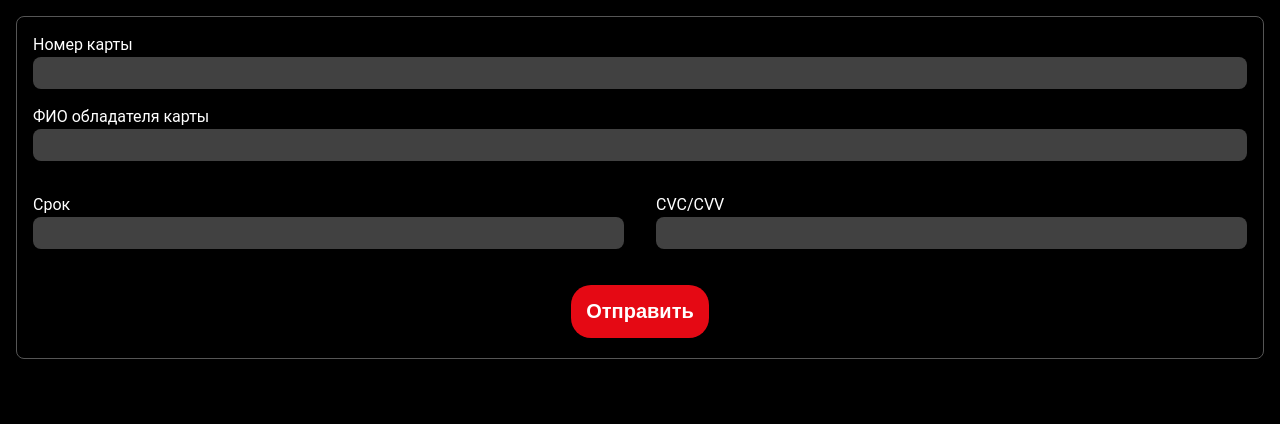
Test: BankCardForm › submits form successfully
The width and height of the screenshot is (1280, 424).
Type "1234567812345678" into the field labelled "Номер карты" at (640, 73), box [33,57,1247,89]
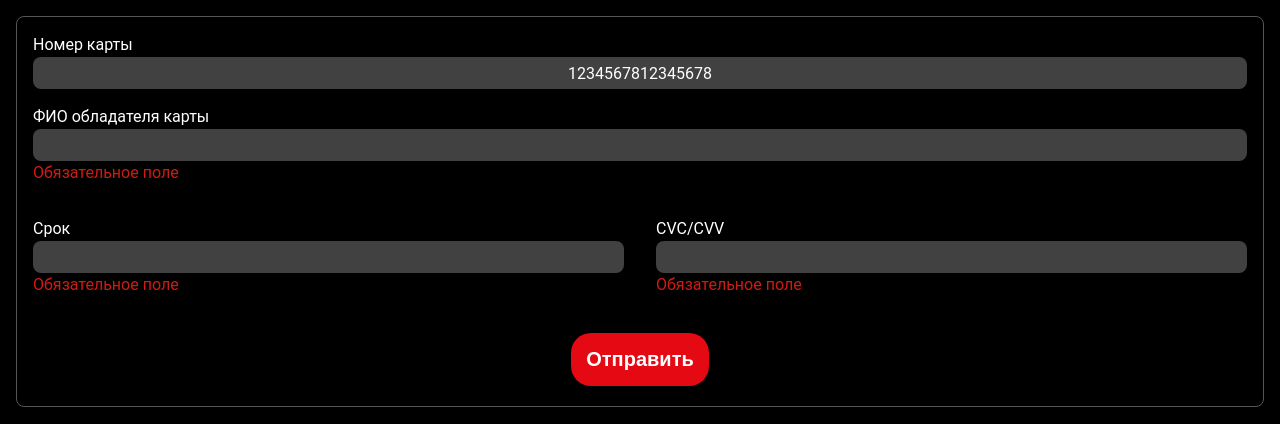
Type "Иванов Иван" into the field labelled "ФИО обладателя карты" at (640, 145), box [33,129,1247,161]
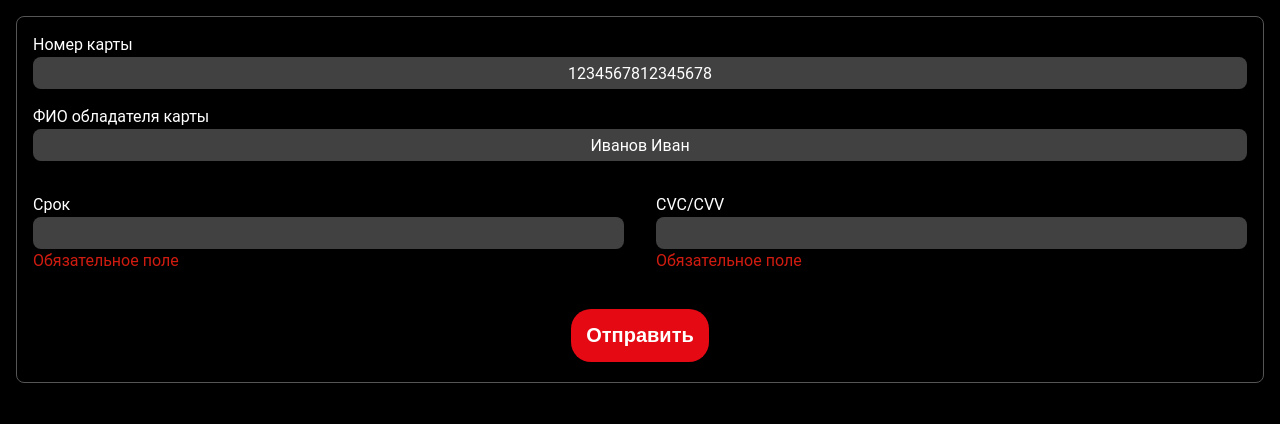
Type "12/12" into the field labelled "Срок" at (328, 233), box [33,217,624,249]
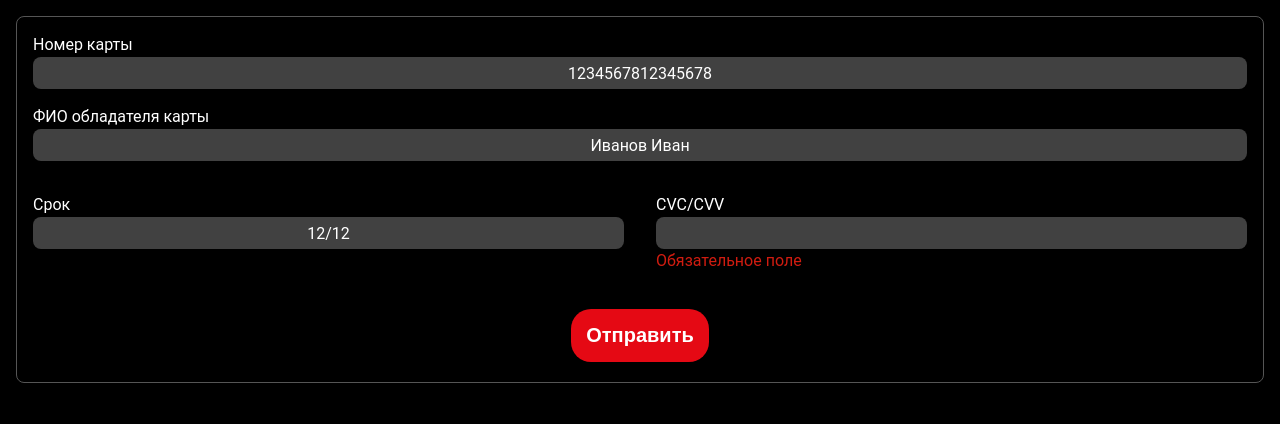
Type "123" into the field labelled "CVC/CVV" at (952, 233), box [656,217,1247,249]
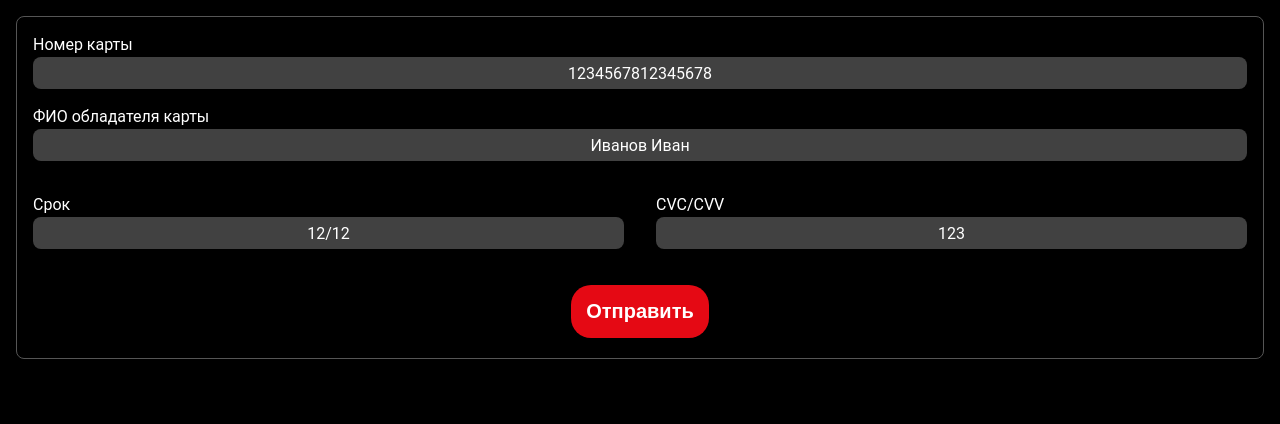
Click the button "Отправить" at (640, 312), box [571,285,709,338]
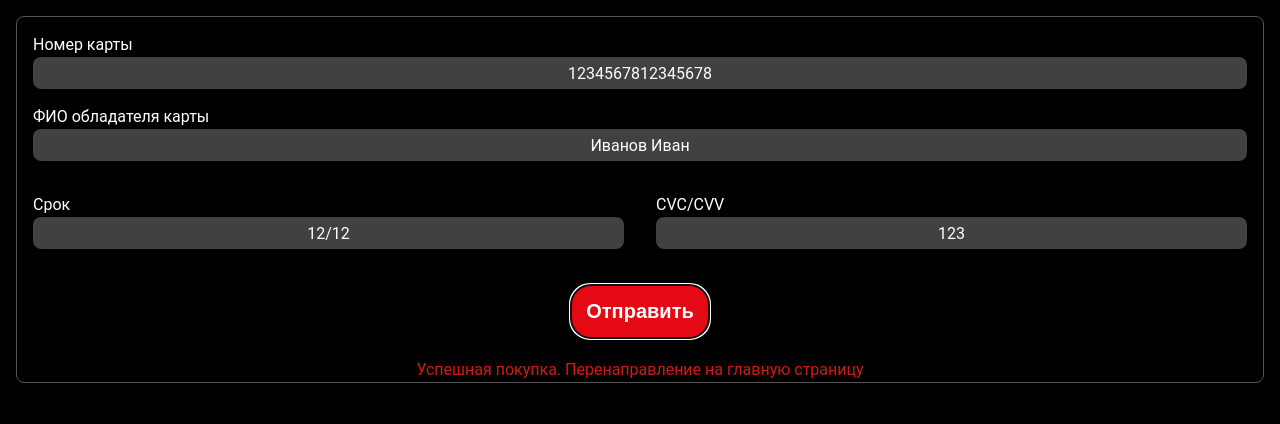
Now the text "Успешная покупка. Перенаправление на главную страницу" is shown, box [416,360,864,379]
